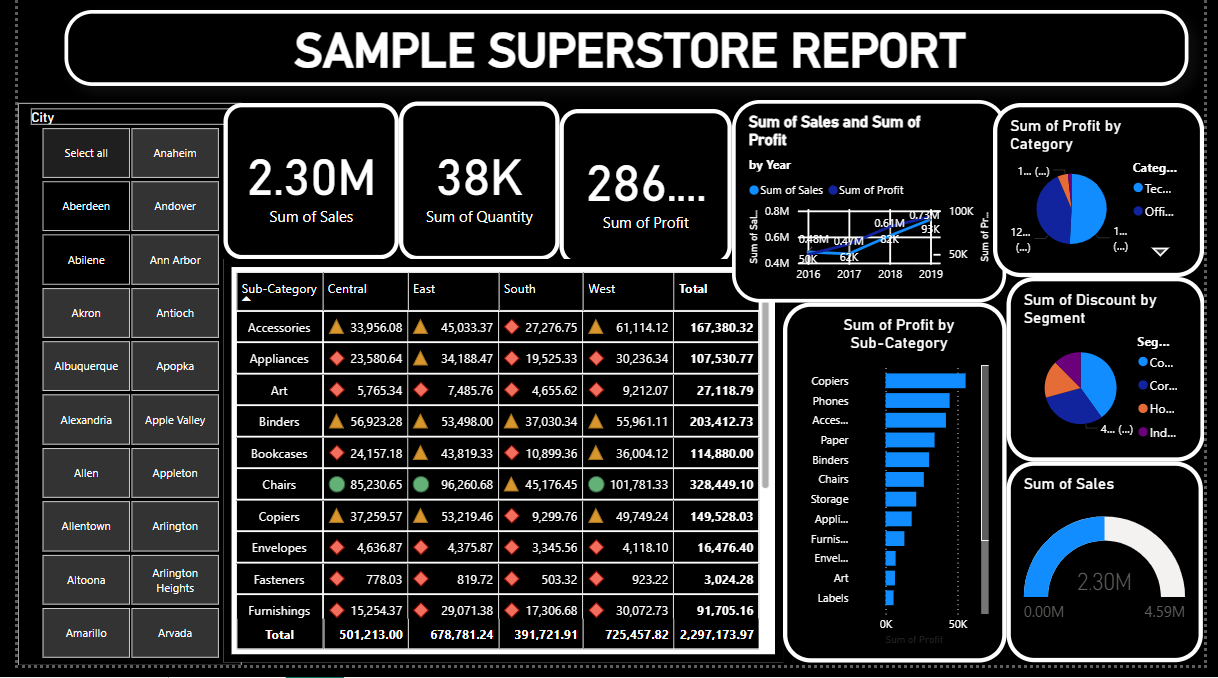

The dashboard page shown, as its layout file describes it:
{"tool":"powerbi","page":{"name":"Report","canvas":[1280,720],"ordinal":0},"visuals":[{"type":"textbox","title":"SAMPLE SUPERSTORE REPORT","box":[50,13.3,1213.3,81.7],"z":0},{"type":"slicer","fields":{"Values":["Orders.City"]},"box":[0,113.3,241.3,607.2],"z":1000},{"type":"card","fields":{"Values":["Sum(Orders.Sales)"]},"box":[221.8,113.3,189.4,168.4],"z":2000},{"type":"card","fields":{"Values":["Sum(Orders.Quantity)"]},"box":[411.3,111.7,173.3,171.6],"z":3000},{"type":"card","fields":{"Values":["Sum(Orders.Profit)"]},"box":[584.5,119.8,186.2,168.4],"z":4000},{"type":"pivotTable","fields":{"Rows":["Orders.Sub-Category"],"Columns":["Orders.Region"],"Values":["Sum(Orders.Sales)"]},"box":[221.8,281.7,604,435.6],"z":5000},{"type":"lineChart","fields":{"Y":["Sum(Orders.Sales)"],"Y2":["Sum(Orders.Profit)"],"Category":["Orders.Order Date.Variation.Date Hierarchy.Year","Orders.Order Date.Variation.Date Hierarchy.Quarter","Orders.Order Date.Variation.Date Hierarchy.Month","Orders.Order Date.Variation.Date Hierarchy.Day"]},"box":[770.8,110.1,296.3,218.6],"z":6000},{"type":"clusteredBarChart","fields":{"Category":["Orders.Sub-Category"],"Y":["Sum(Orders.Profit)"]},"box":[825.8,328.7,241.3,388.6],"z":7000},{"type":"pieChart","fields":{"Category":["Orders.Category"],"Y":["Sum(Orders.Profit)"]},"box":[1052.5,113.3,228.3,187.8],"z":8000},{"type":"pieChart","fields":{"Category":["Orders.Segment"],"Y":["Sum(Orders.Discount)"]},"box":[1067.1,301.2,213.7,199.2],"z":9000},{"type":"gauge","fields":{"Y":["Sum(Orders.Sales)"]},"box":[1067.1,500.3,212.1,217],"z":10000}]}

Visuals, with their boxes in screenshot pixels (x1, y1, x2, y2), scaled from the page's 1280x720 canvas onto the 1218x678 screenshot:
"SAMPLE SUPERSTORE REPORT" textbox: 48:13:1202:89
slicer - Orders.City: 0:107:230:677
card - Sum(Orders.Sales): 211:107:391:265
card - Sum(Orders.Quantity): 391:105:556:267
card - Sum(Orders.Profit): 556:113:733:271
pivotTable - Orders.Sub-Category x Orders.Region: 211:265:786:675
lineChart - Sum(Orders.Sales) x Sum(Orders.Profit): 733:104:1015:310
clusteredBarChart - Orders.Sub-Category x Sum(Orders.Profit): 786:310:1015:675
pieChart - Orders.Category x Sum(Orders.Profit): 1002:107:1217:284
pieChart - Orders.Segment x Sum(Orders.Discount): 1015:284:1217:471
gauge - Sum(Orders.Sales): 1015:471:1217:675
